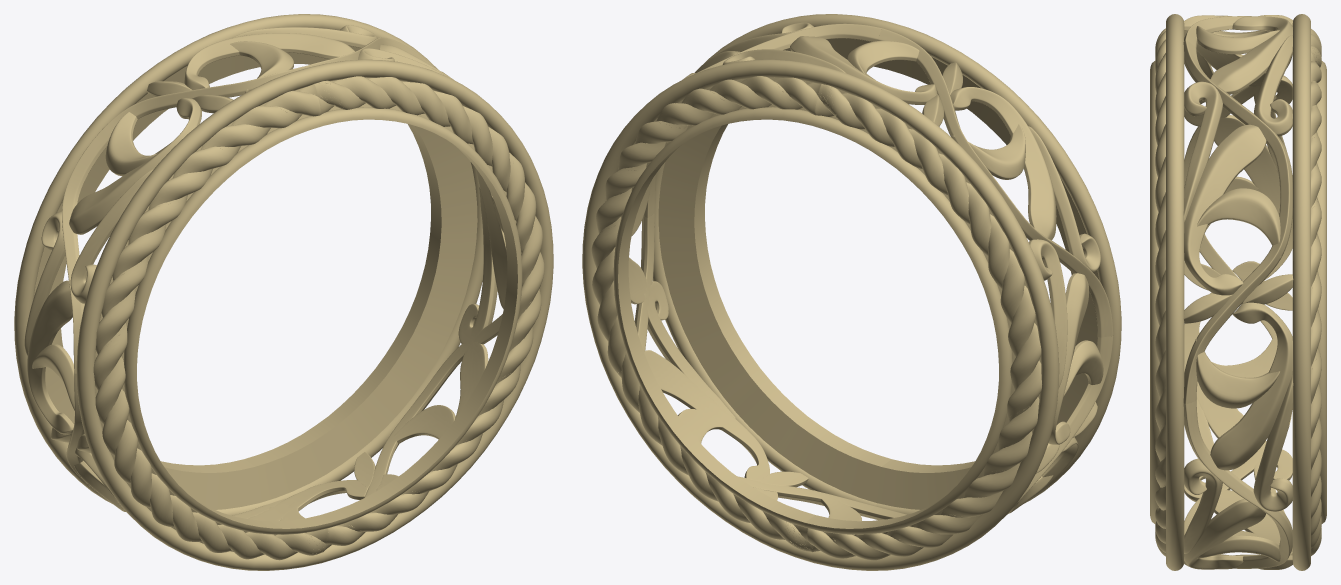
Rendered from ring.glb.
3 renders of one model, left to right at view 1: azimuth 30°, elevation 25°; view 2: azimuth 150°, elevation 25°; view 3: azimuth 270°, elevation 25°, orthographic.
Visible parts, largest first — view 1: Plane001, Object004__0, Object005__0, Plane015, Plane013, Plane011, LineVenz01, Plane010, Plane009, LineVenz03, Plane012, Plane016 (+4 smaller); view 2: Plane001, Object006__0, Object007__0, Plane015, Plane009, Plane013, Plane011, LineVenz01, LineVenz03, LineVenz00, LineVenz02, Plane016 (+2 smaller); view 3: Plane001, Plane008, Plane010, Plane011, Plane009, LineVenz00, Object007__0, Object005__0, Plane016, Plane013, LineVenz03, Plane015 (+6 smaller).
Part boxes in pixels (x1,y1,x2,y2): Plane001: [14, 14, 553, 570]; Object004__0: [93, 84, 328, 560]; Object005__0: [314, 76, 544, 550]; Plane015: [69, 95, 233, 303]; Plane013: [24, 211, 74, 442]; Plane011: [147, 25, 377, 96]; LineVenz01: [62, 66, 305, 373]; Plane010: [458, 169, 507, 343]; Plane009: [376, 340, 488, 491]; LineVenz03: [364, 314, 502, 497]; Plane012: [251, 452, 374, 520]; Plane016: [74, 434, 127, 513]; Plane001: [582, 14, 1121, 570]; Object006__0: [807, 84, 1041, 560]; Object007__0: [591, 76, 821, 551]; Plane015: [942, 62, 1100, 273]; Plane009: [644, 281, 808, 487]; Plane013: [1029, 239, 1103, 473]; Plane011: [722, 36, 943, 126]; LineVenz01: [877, 28, 1113, 337]; LineVenz03: [634, 213, 874, 518]; LineVenz00: [644, 23, 881, 217]; LineVenz02: [868, 336, 1113, 520]; Plane016: [1007, 402, 1097, 514]; Plane001: [1150, 14, 1326, 570]; Plane008: [1183, 81, 1281, 323]; Plane010: [1195, 274, 1293, 511]; Plane011: [1196, 15, 1292, 136]; Plane009: [1184, 458, 1280, 569]; LineVenz00: [1183, 40, 1292, 404]; Object007__0: [1311, 53, 1321, 555]; Object005__0: [1155, 53, 1165, 556]; Plane016: [1184, 261, 1277, 501]; Plane013: [1205, 75, 1292, 310]; LineVenz03: [1183, 400, 1292, 568]; Plane015: [1184, 15, 1269, 126].
Size of the model in its own units: 2.44 by 2.44 by 0.7738.
